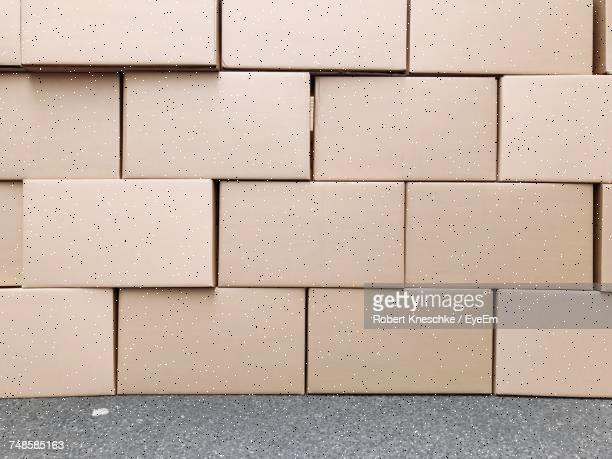Box: (118, 64, 316, 183), (22, 178, 220, 290), (304, 284, 497, 395), (405, 181, 601, 289), (313, 69, 499, 181), (116, 287, 310, 393), (219, 179, 407, 286), (217, 0, 411, 77), (405, 0, 598, 76), (20, 2, 223, 73), (0, 66, 124, 181), (0, 286, 118, 400), (489, 289, 612, 397), (20, 0, 219, 66), (497, 75, 612, 184)
